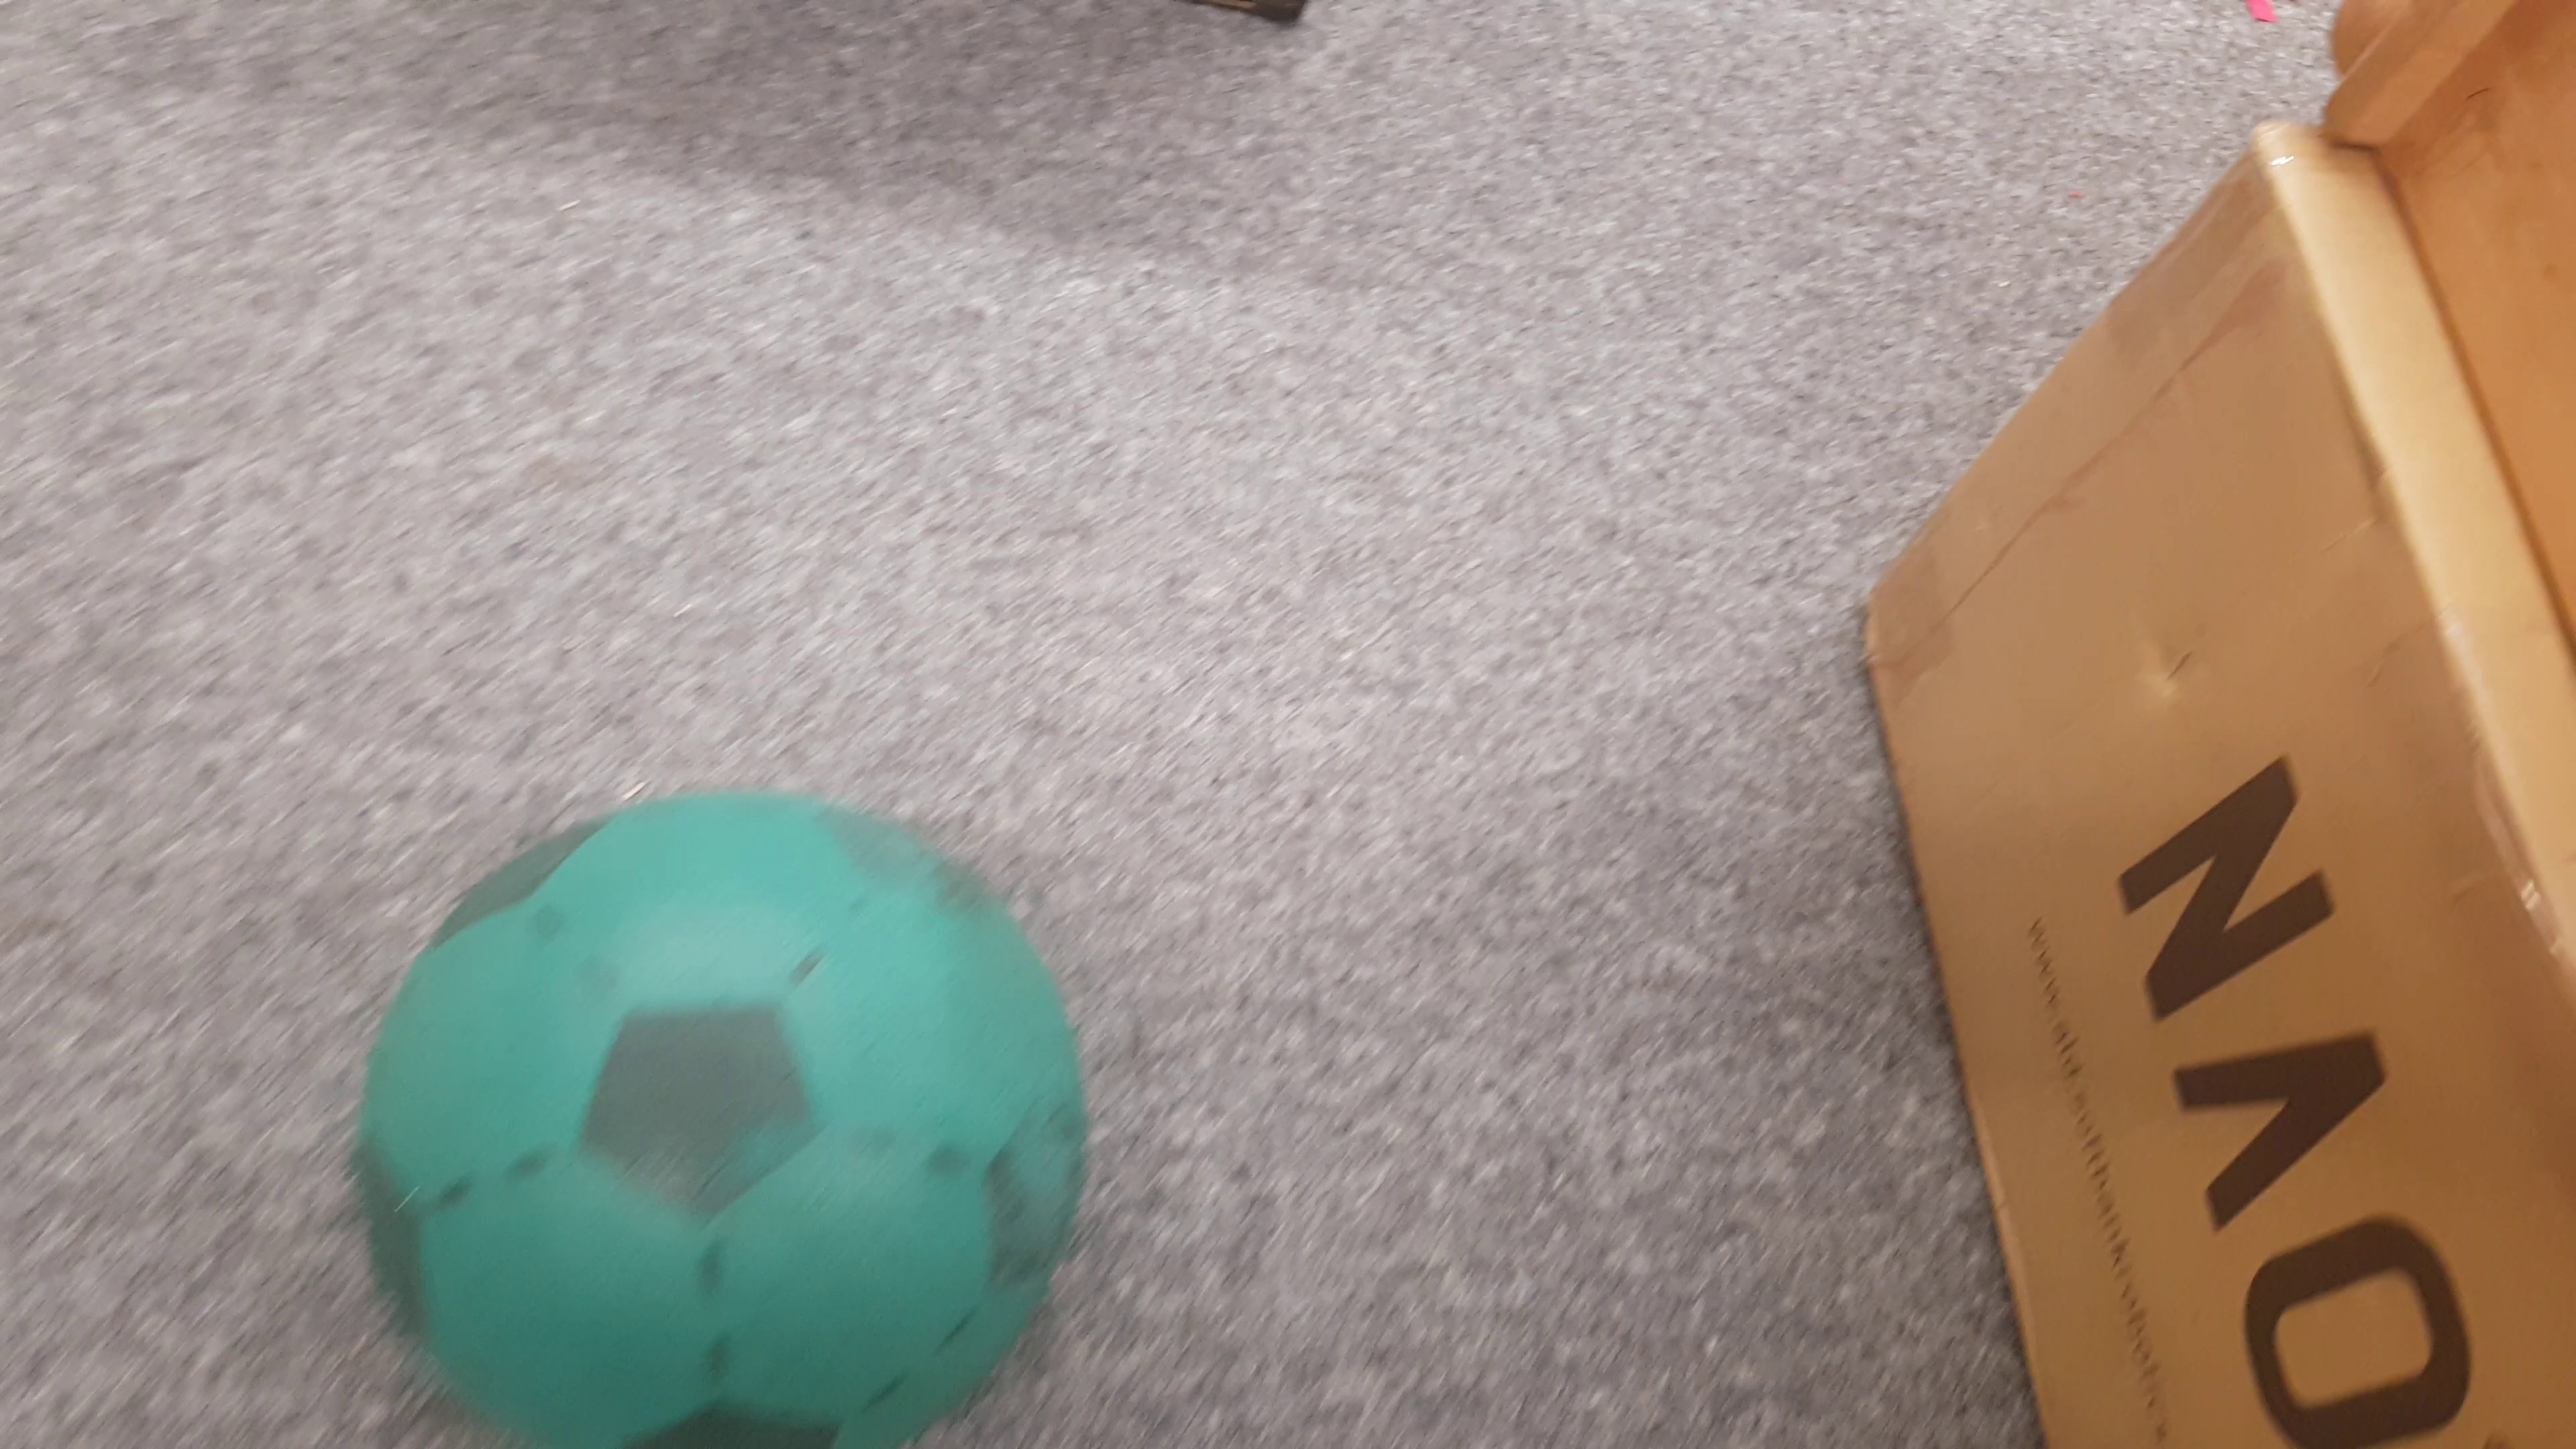kick: (347, 786, 1090, 1431)
